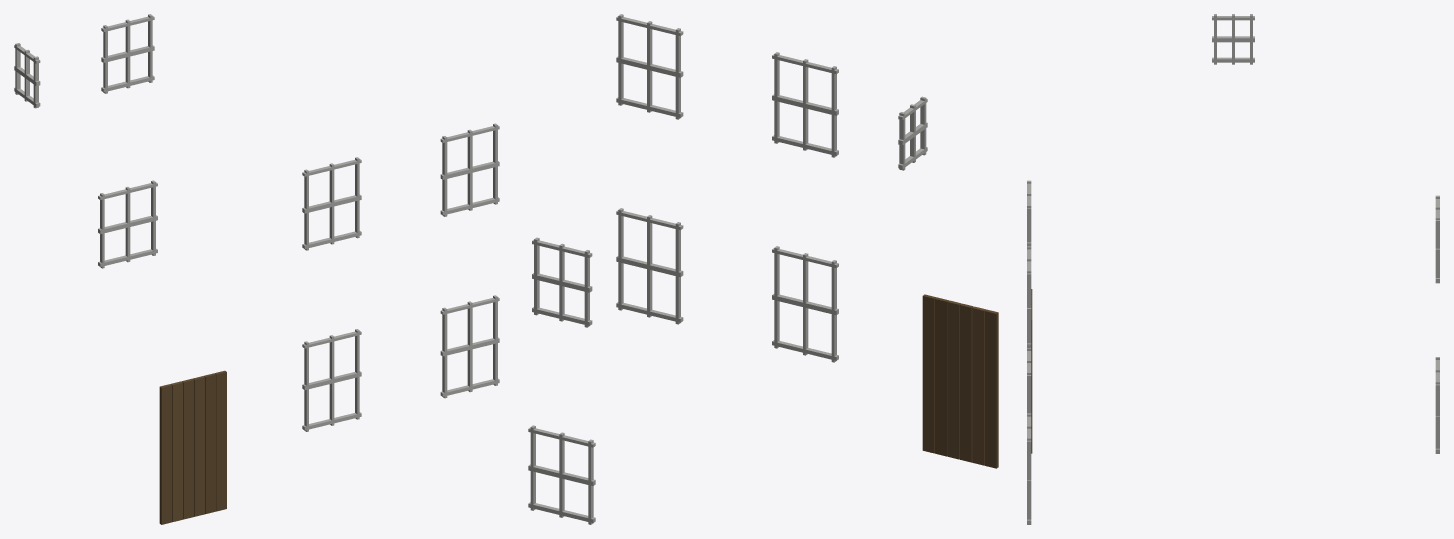
Rendered from SM_Bld_235_Wood.glb.
3 views of the same model, side by side, from view 1: azimuth 30°, elevation 25°; view 2: azimuth 150°, elevation 25°; view 3: azimuth 270°, elevation 25° (orthographic). The views are drawn at different scales.
Visible parts, largest first — view 1: SM_Bld_235_Wood; view 2: SM_Bld_235_Wood; view 3: SM_Bld_235_Wood.
Part boxes in pixels (x1,y1,x2,y2): SM_Bld_235_Wood: (14,14,499,524); SM_Bld_235_Wood: (528,14,998,524); SM_Bld_235_Wood: (1027,14,1439,524).
Size of the model in its own units: 5.77 by 6.05 by 5.75.
